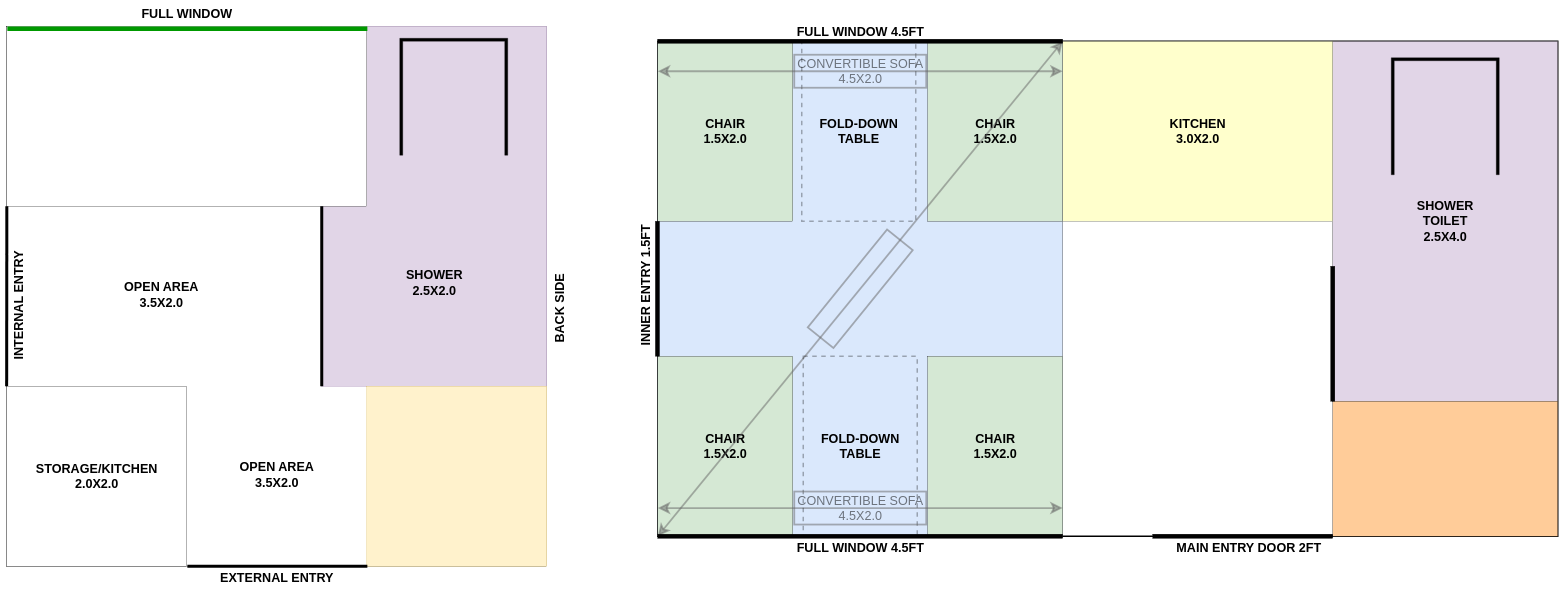
The diagram is 1564 pixels wide and 592 high, and some of its shapes have lost their labels. The centre of each missing label's shape, as x and y in pixels:
CONVERTIBLE BED 4.5X5.5: the point at 860,288
FULL HEIGHT STORAGE 2.5X1.5: the point at 1445,468
SOFA/TABLE 4.0X2.0: the point at 186,116
STORAGE 2.0X2.0: the point at 456,476
TOILET: the point at 1445,116
TOILET 2.0X2.0: the point at 453,96
